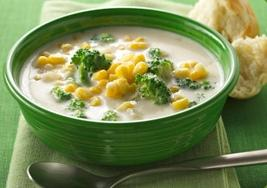corn: (171, 94, 190, 110), (74, 87, 93, 101), (114, 66, 130, 81), (194, 62, 208, 78), (106, 82, 119, 98), (34, 55, 50, 68), (116, 79, 130, 93), (133, 62, 148, 75), (48, 54, 67, 64), (92, 70, 109, 81), (174, 68, 190, 79), (117, 102, 134, 112), (133, 54, 146, 65), (129, 43, 148, 50), (119, 54, 134, 62), (90, 96, 101, 106), (98, 79, 108, 90), (64, 84, 76, 92), (104, 54, 116, 60), (81, 42, 91, 49), (170, 86, 180, 93), (123, 36, 133, 42), (116, 44, 125, 50), (109, 74, 117, 80), (190, 62, 198, 67), (64, 48, 68, 52)
